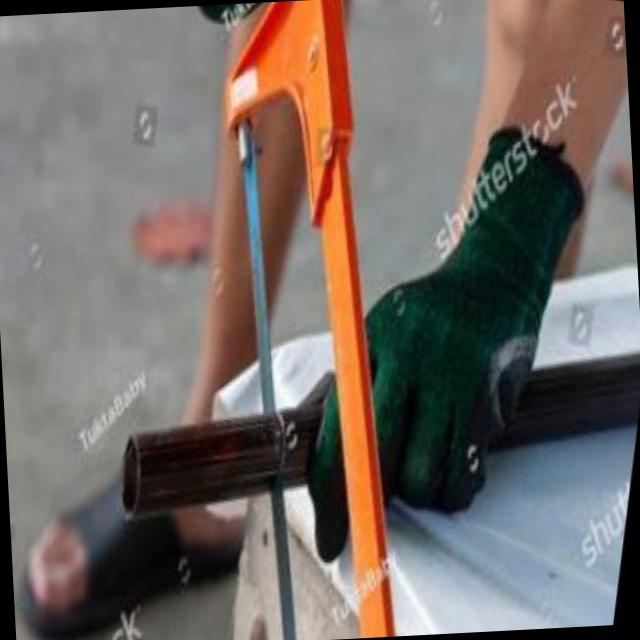gloved: (276, 89, 617, 597)
